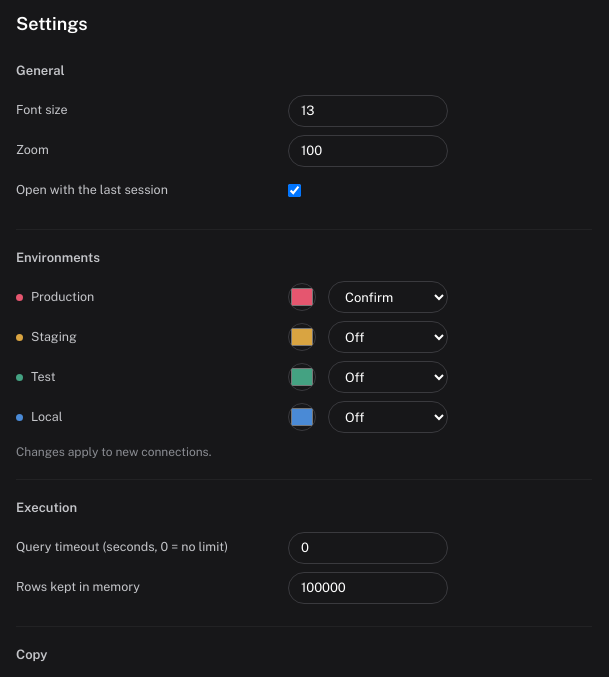
Scenario: a rejected save puts the field back to the confirmed value
Replace the text in the number field labelled "Rows kept in memory" with "5000" at (368, 588), box [288,572,448,604]
Wait 300 ms
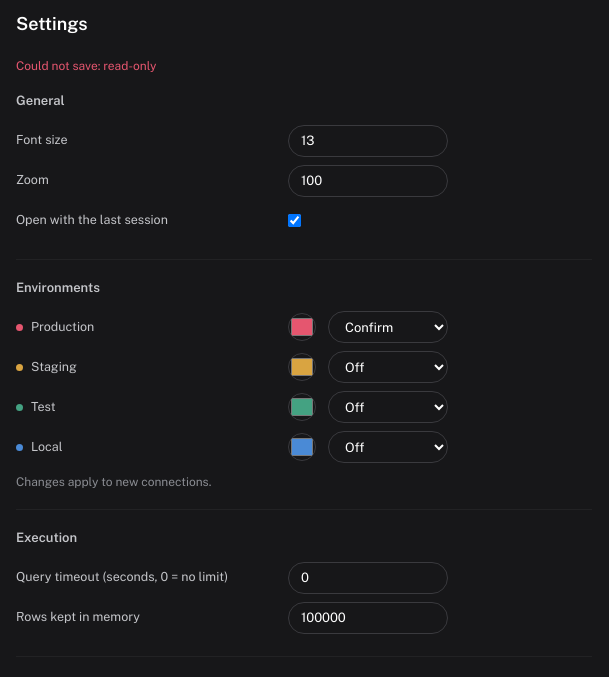
Expected: the message "Could not save: read-only" is shown, [16,59,156,73]
